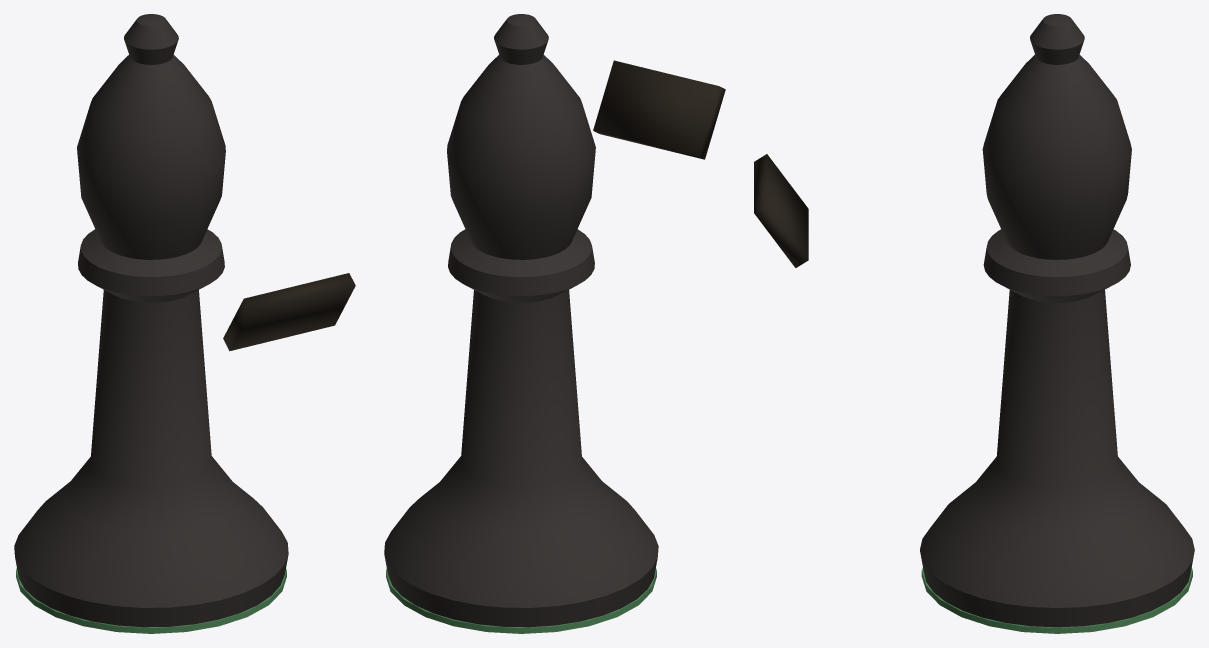
Rendered from chess_bishop_b.glb.
The picture shows the model from 3 angles, left to right: view 1: azimuth 30°, elevation 25°; view 2: azimuth 150°, elevation 25°; view 3: azimuth 270°, elevation 25°; orthographic projection.
Parts seen in each view (by area): view 1: Piece, Slit, Felt; view 2: Piece, Slit, Felt; view 3: Piece, Slit, Felt.
Boxes of the visible parts, x1,y1,x2,y2 form: Piece: (14,14,288,627); Slit: (223,273,355,351); Felt: (16,568,286,633); Piece: (384,14,658,627); Slit: (593,60,725,159); Felt: (386,568,656,633); Piece: (920,14,1194,627); Slit: (754,154,808,267); Felt: (921,567,1192,633).
Size of the model in its own units: 0.0342 by 0.077 by 0.0548.
